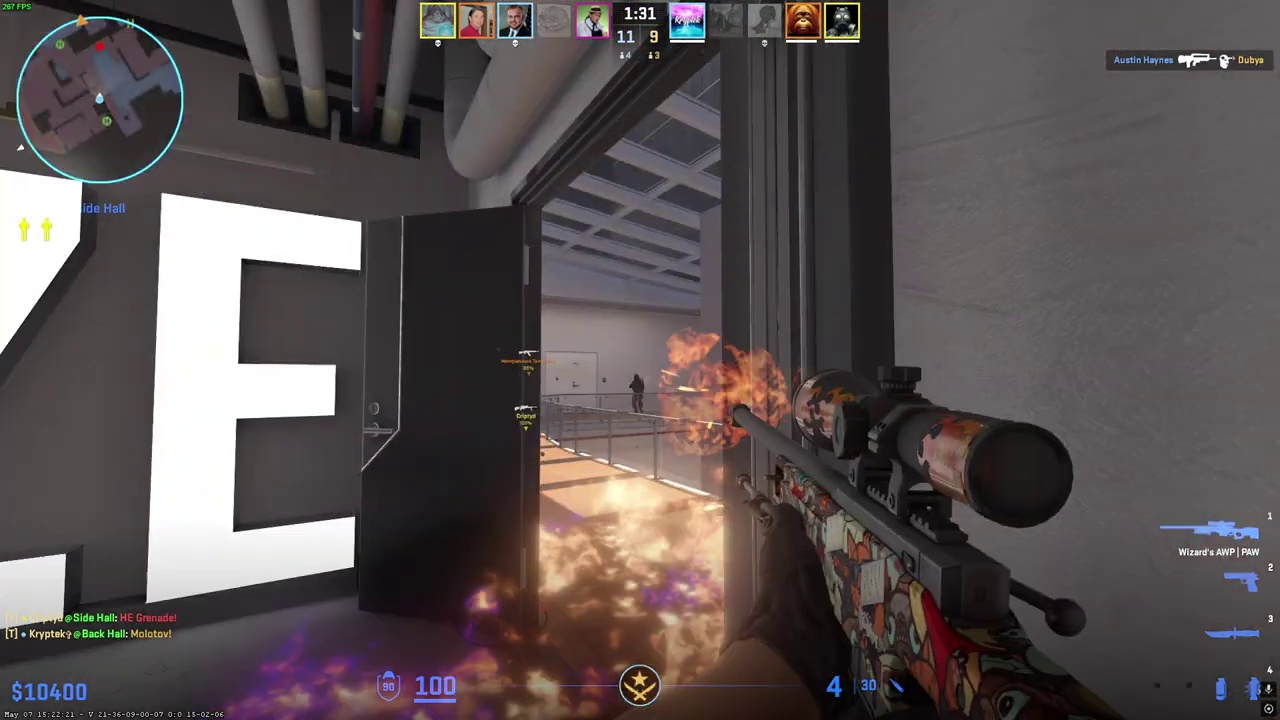CT: (629, 373, 645, 413)
